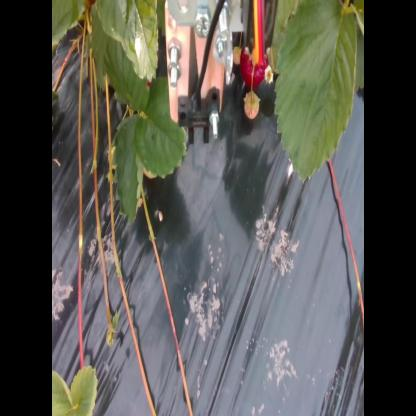ripe: (237, 43, 268, 90)
unripe: (243, 95, 261, 122)
